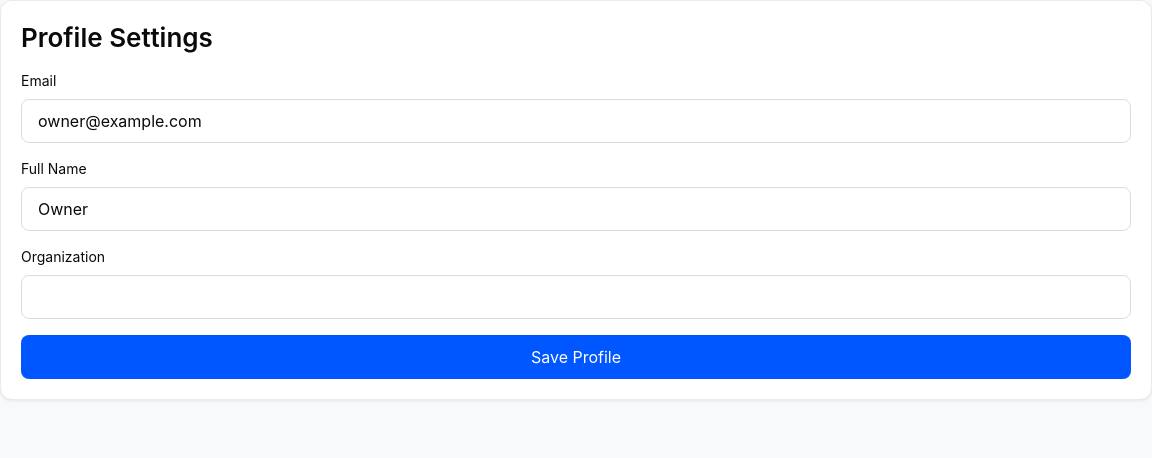
reports a rejected profile write
Click the button "Save Profile" at x=576, y=357, box [21, 335, 1131, 379]
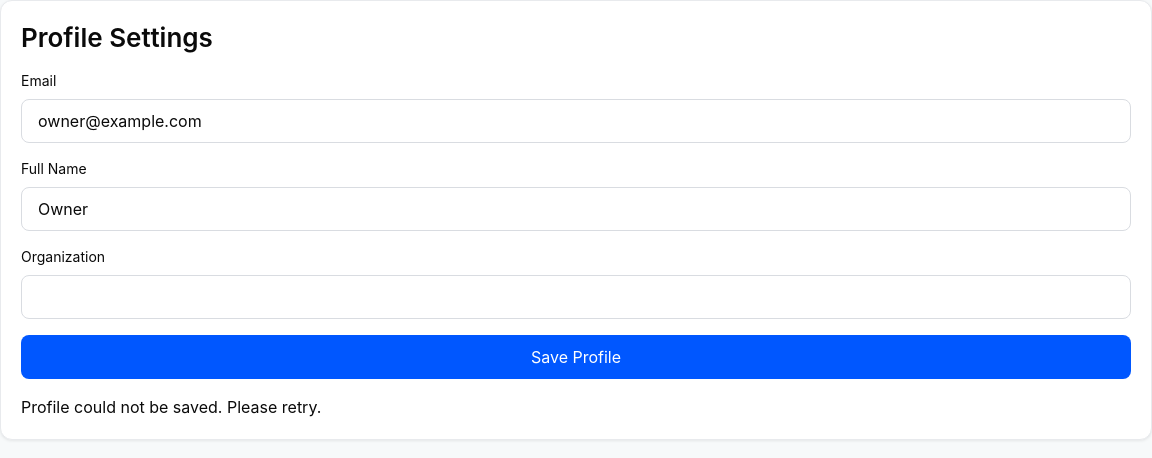
Expected: the message shows "could not be saved", [21, 397, 321, 417]
